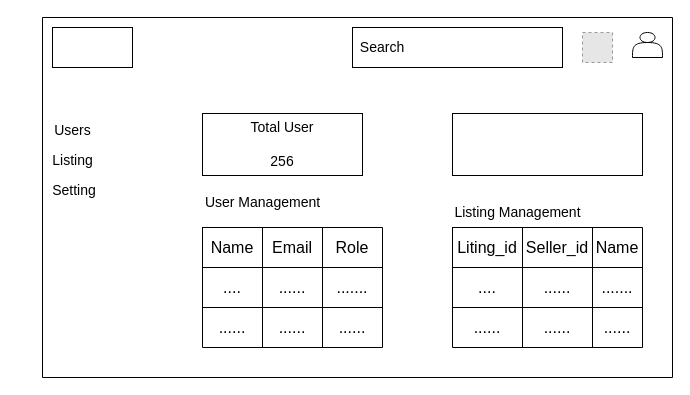
Some shapes in this 690 by 395 pixel diagram are drawn without their labels. Grey dashed boxes stand in for pictures. Here are the shapes that lost their labels. From the top down, the centre of each, then its label:
At point 92,47: "SmartResell".
At point 547,144: "Total Listing 120".
